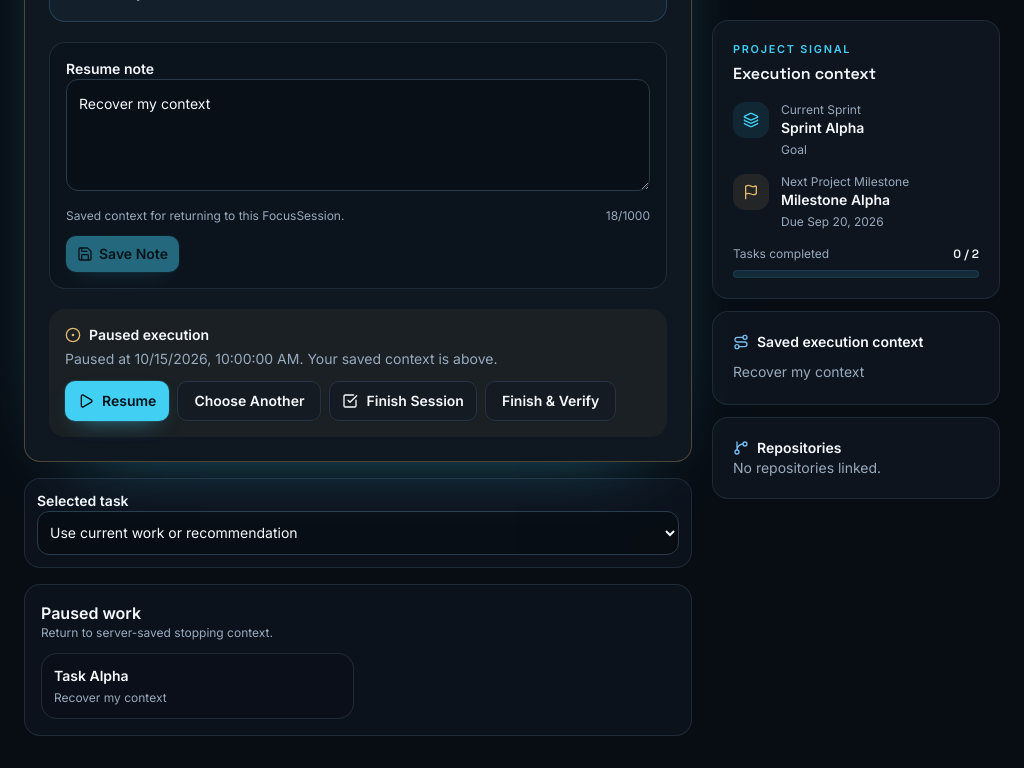
Test: Focus execution (mocked HTTP/jsdom, not a live backend/browser) › clears Focus data on authentication expiry and restores the server's paused work after sign-in
(page scrolled)
Click the button "Resume" at coordinates (117, 401), box [65, 381, 169, 421]
(page scrolled)
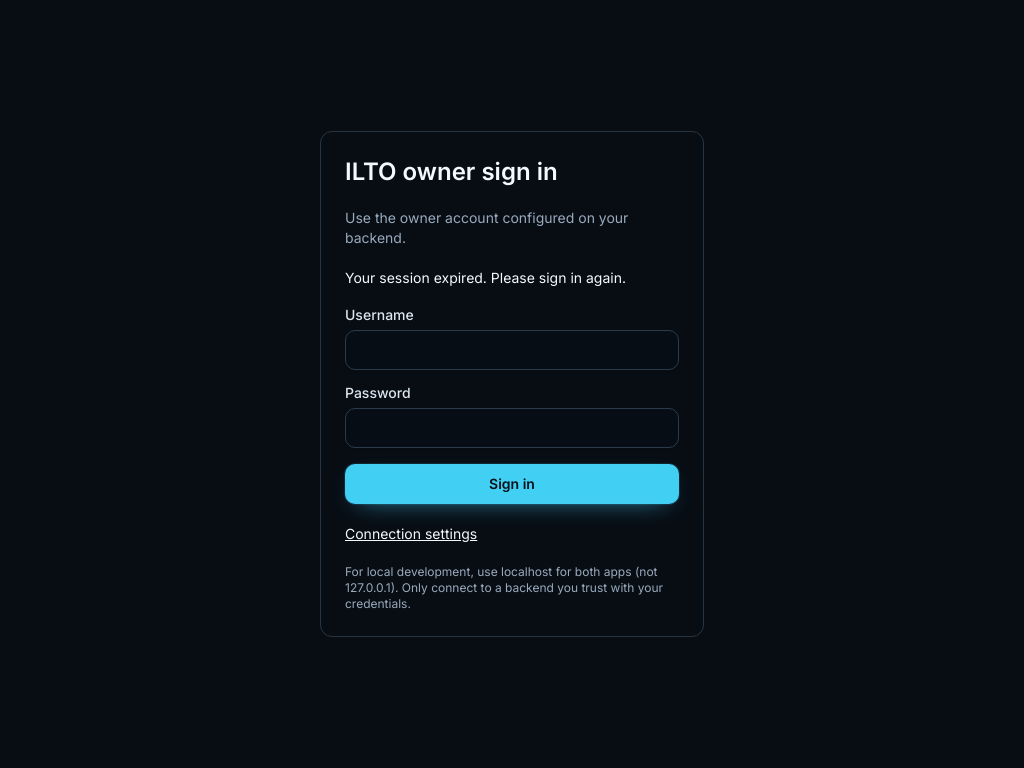
Expected: the text "Your session expired. Please sign in again." is shown, [345, 269, 626, 286]
Type "owner" into the field labelled "Username" at coordinates (512, 350), box [345, 330, 679, 370]
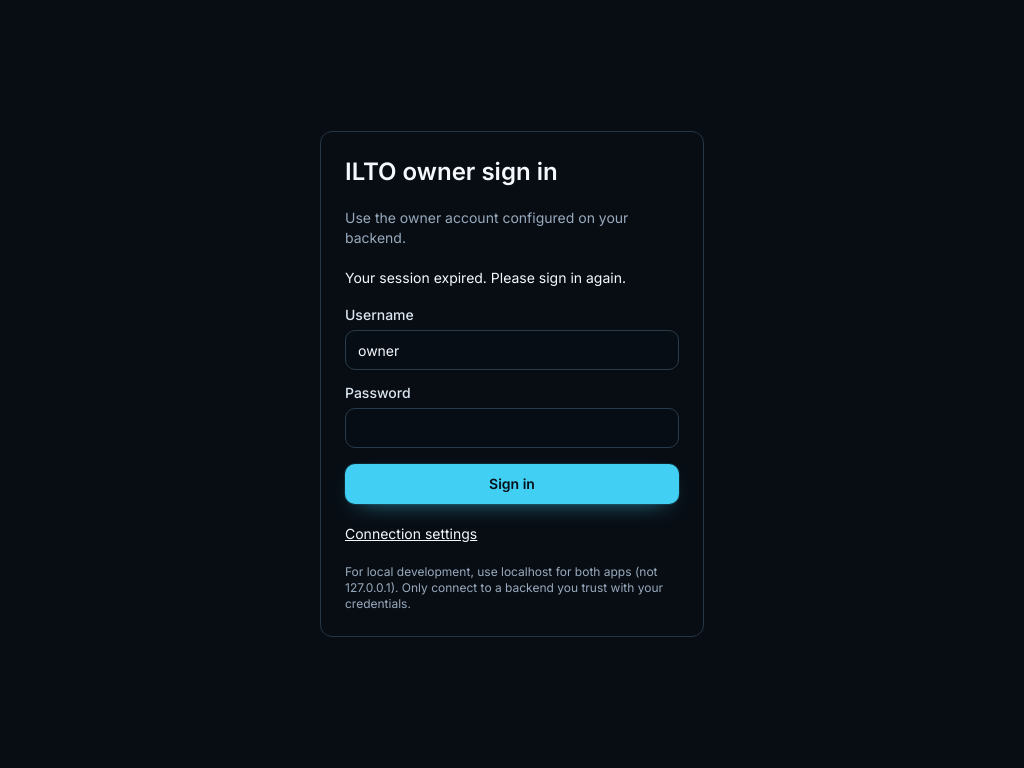
Type "test-only" into the password field labelled "Password" at coordinates (512, 428), box [345, 408, 679, 448]
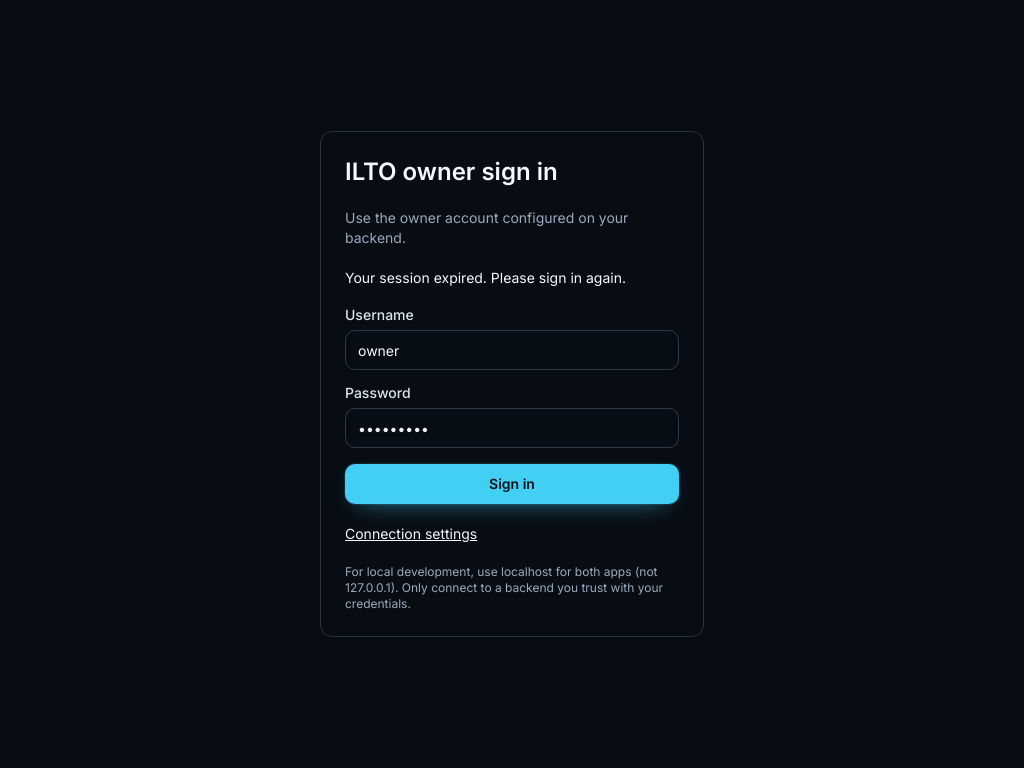
Expected: the button "Sign in" is enabled
Click the button "Sign in" at coordinates (512, 484), box [345, 464, 679, 504]
(page scrolled)
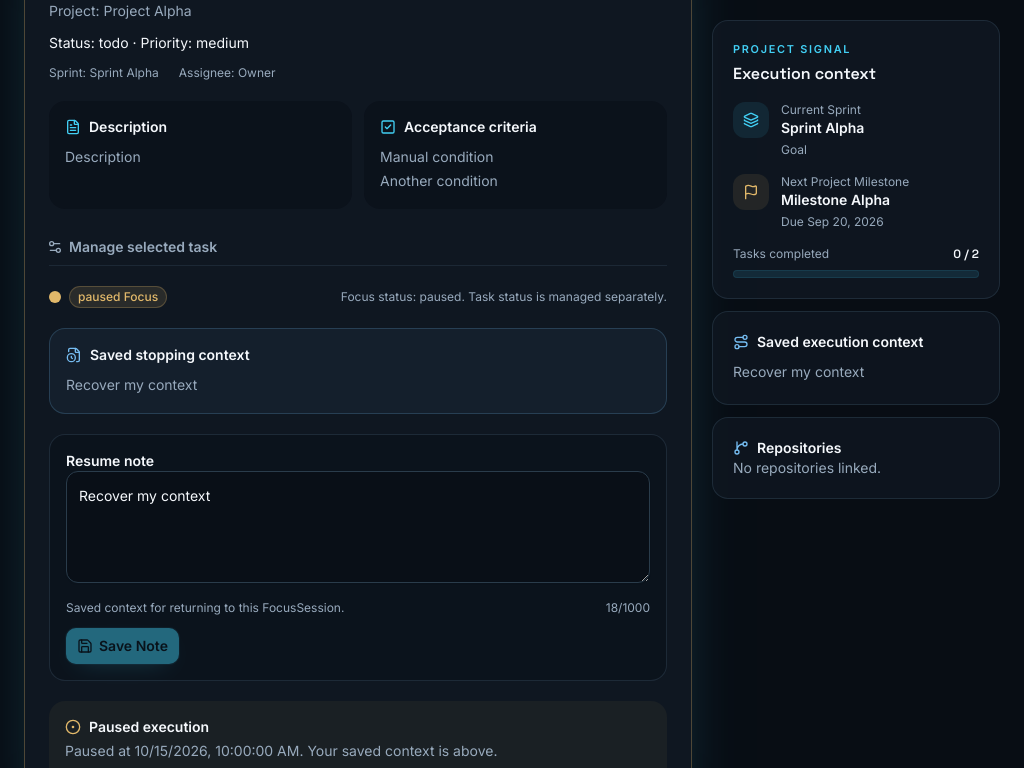
Expected: the text "Recover my context" below "Focus status:" is shown, [66, 376, 197, 393]
